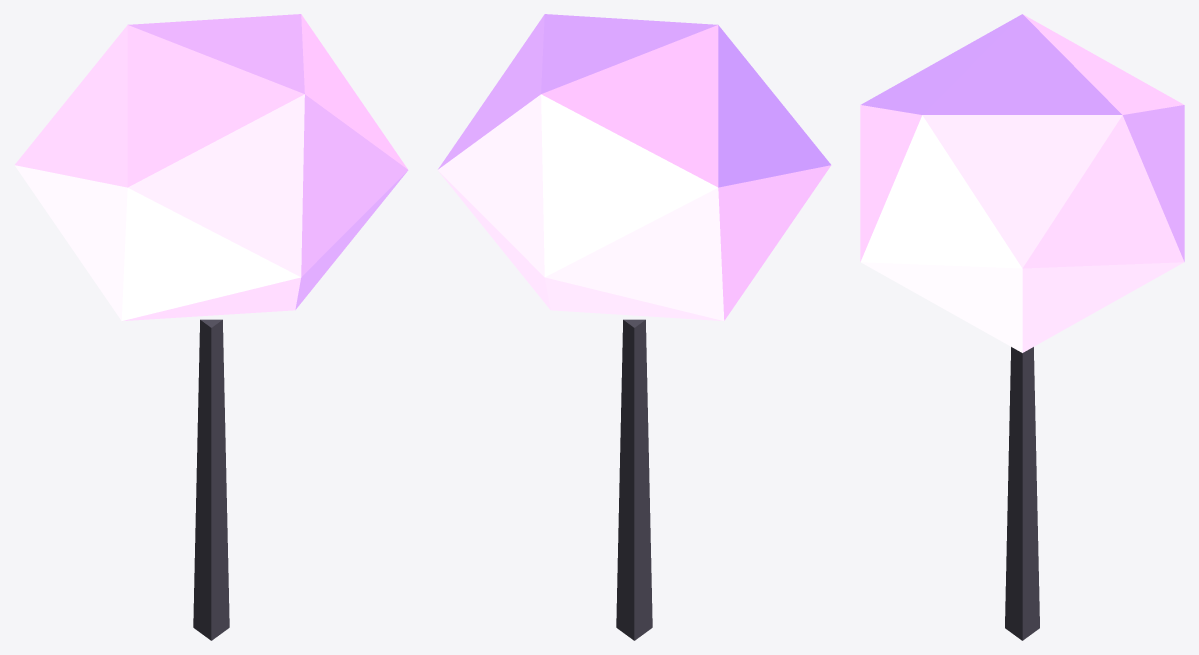
Rendered from purple_glow_far.glb.
The picture shows the model from 3 angles, left to right: view 1: azimuth 30°, elevation 25°; view 2: azimuth 150°, elevation 25°; view 3: azimuth 270°, elevation 25°; orthographic projection. The views are drawn at different scales.
Visible parts, largest first — view 1: purple_glow_far; view 2: purple_glow_far; view 3: purple_glow_far.
Part boxes in pixels (<box>): purple_glow_far: <box>14,14,408,640</box>; purple_glow_far: <box>437,14,831,640</box>; purple_glow_far: <box>860,14,1184,640</box>.
Size of the model in its own units: 1.28 by 2.5 by 1.28.
